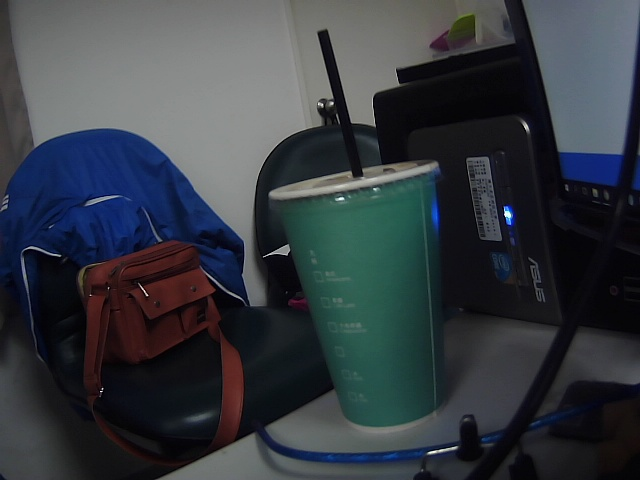beverage: (260, 19, 489, 438)
